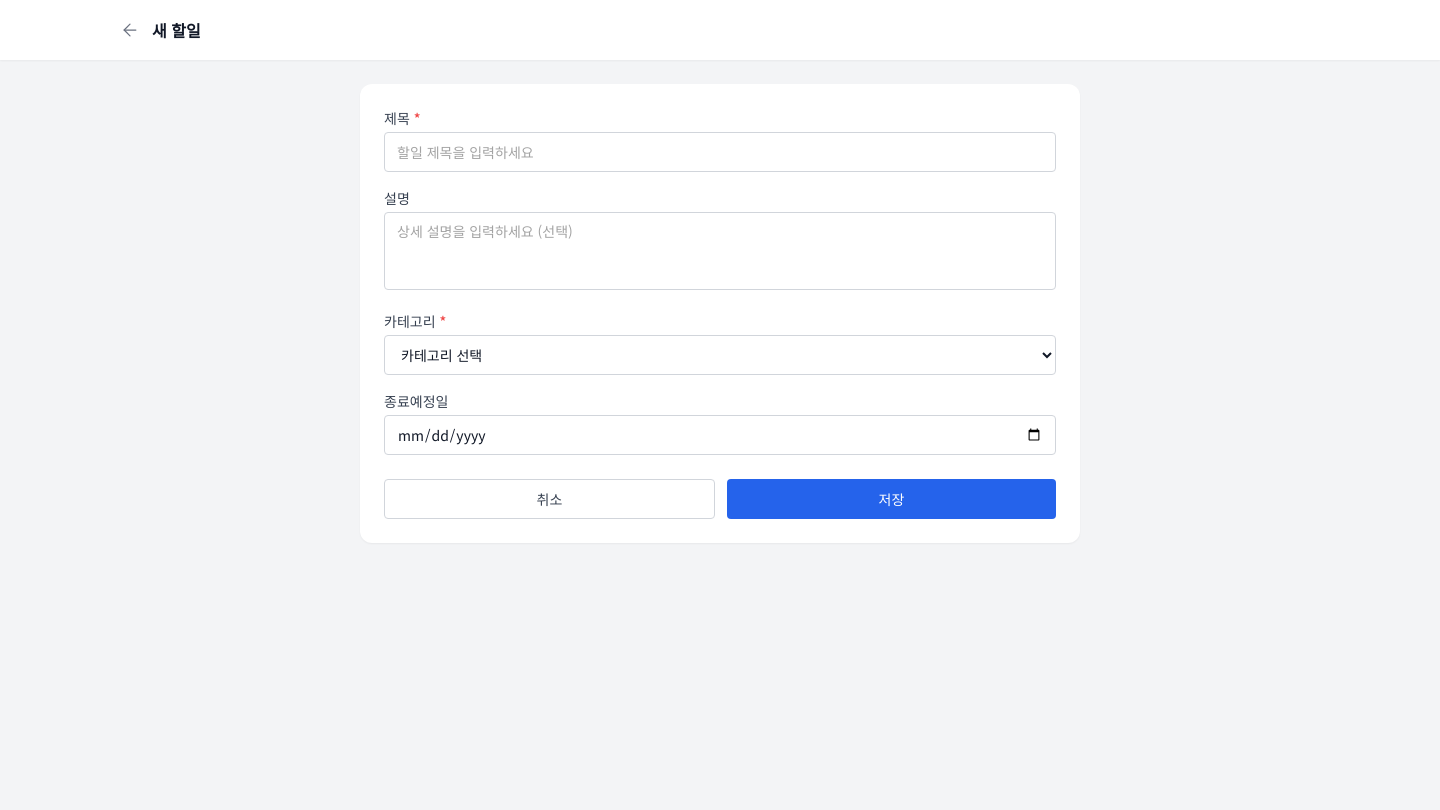
it: TodoCreatePage › 제목 미입력 시 제출하면 에러 메시지 표시
Click the button "저장" at (892, 499), box x1=727 y1=479 x2=1056 y2=519
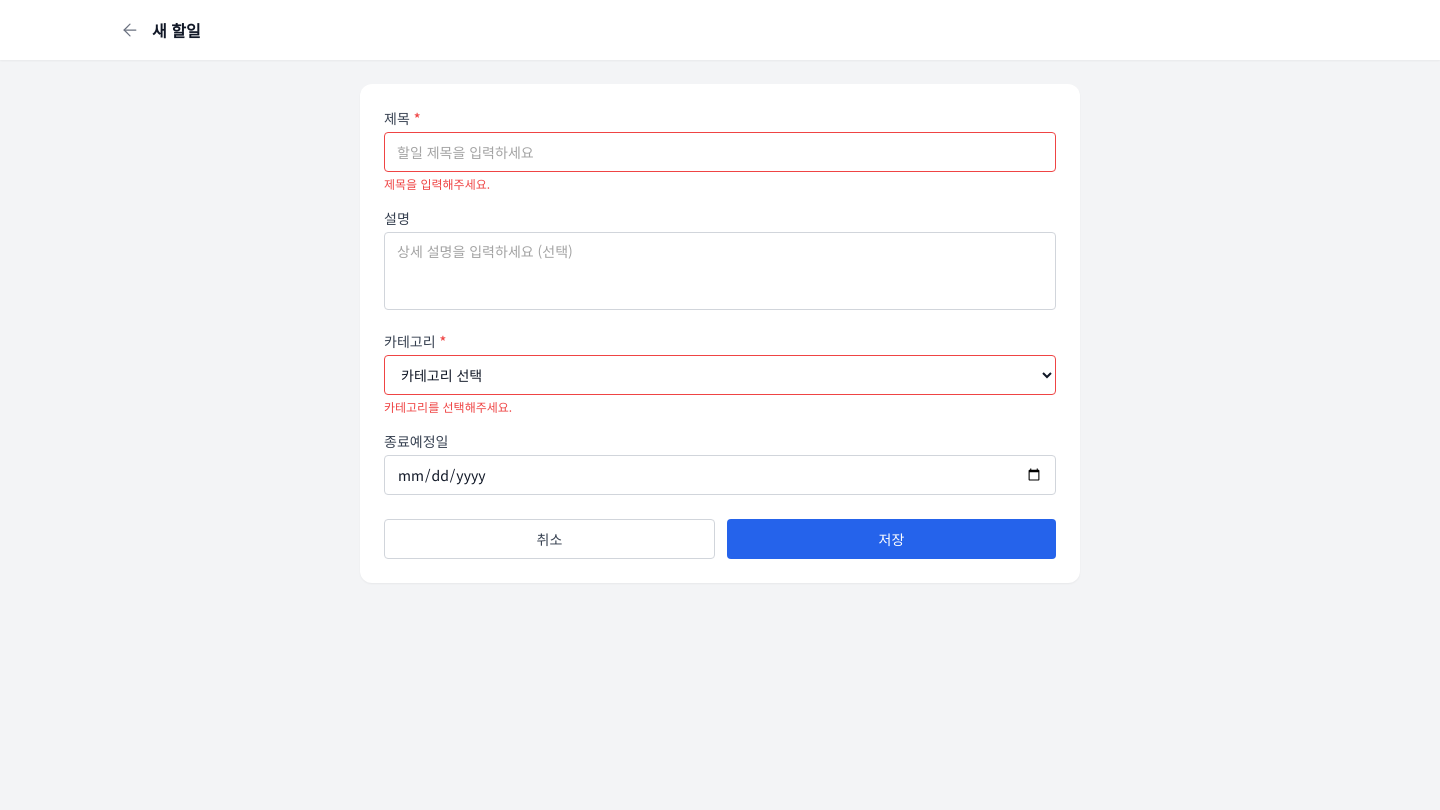
Check: the text "제목을 입력해주세요." is shown, box x1=384 y1=175 x2=490 y2=192
